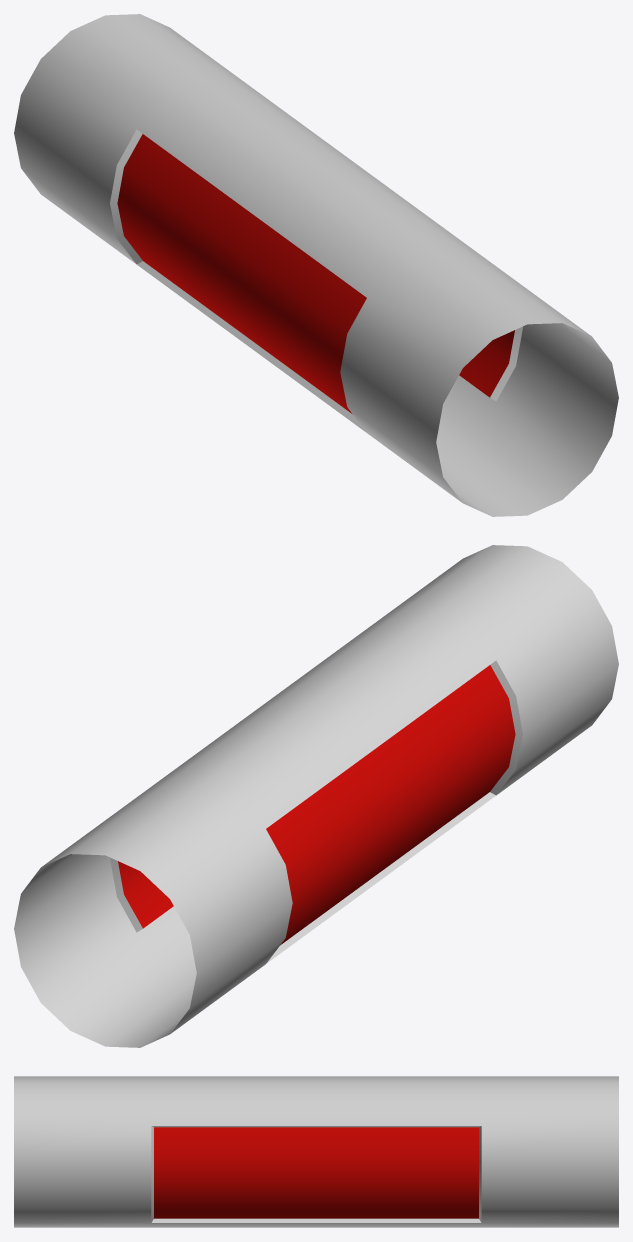
The model's file is mdl_pipe_substance.fbx.
3 renders of one model, top to bottom at view 1: azimuth 30°, elevation 25°; view 2: azimuth 150°, elevation 25°; view 3: azimuth 270°, elevation 25°, orthographic. The views are drawn at different scales.
Visible parts, largest first — view 1: mesh_pipe_substance; view 2: mesh_pipe_substance; view 3: mesh_pipe_substance.
Part boxes in pixels (x1,y1,x2,y2): mesh_pipe_substance: (14, 14, 618, 516); mesh_pipe_substance: (14, 545, 618, 1047); mesh_pipe_substance: (14, 1076, 618, 1227).
Bounding box in the file's own units: 1 × 1 × 4.
